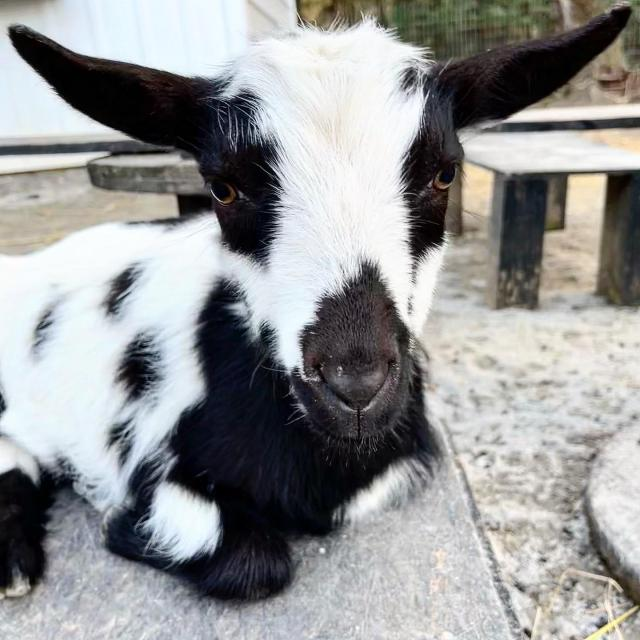goat: (0, 4, 632, 606)
